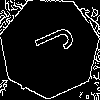J: (24, 23, 76, 65)
